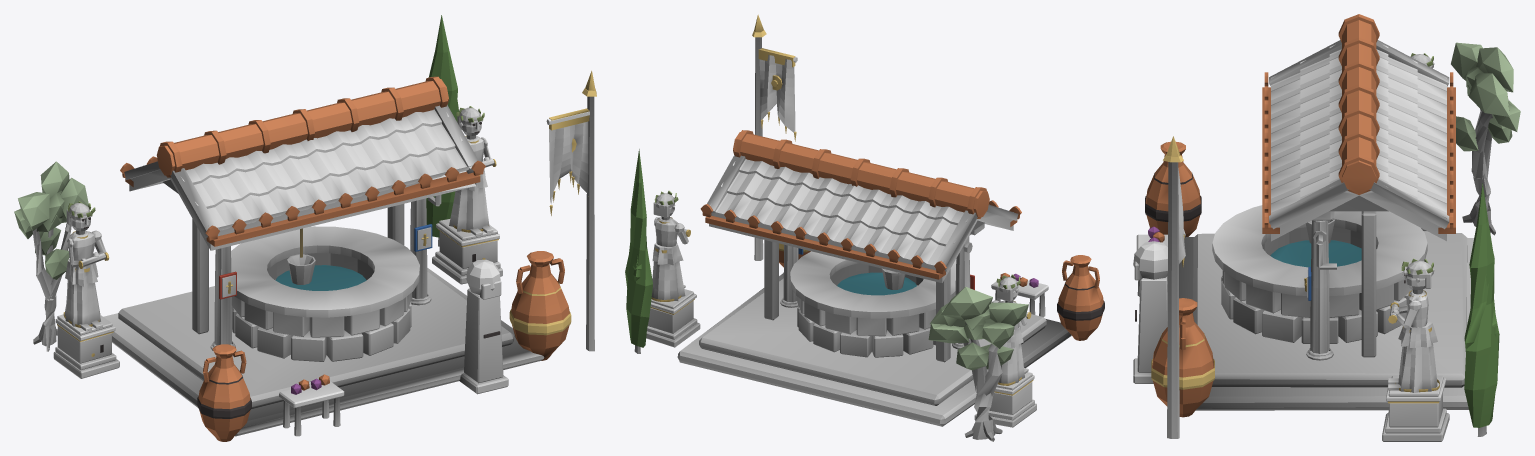
Rendered from offering-well-l2.glb.
3 renders of one model, left to right at view 1: azimuth 30°, elevation 25°; view 2: azimuth 150°, elevation 25°; view 3: azimuth 270°, elevation 25°, orthographic. The views are drawn at different scales.
Visible parts, largest first — view 1: offering-well-l2; view 2: offering-well-l2; view 3: offering-well-l2.
Boxes of the visible parts, x1,y1,x2,y2 form: offering-well-l2: (14,15,596,441); offering-well-l2: (625,14,1104,441); offering-well-l2: (1133,14,1520,441).
Size of the model in its own units: 1.53 by 0.9096 by 1.05.
